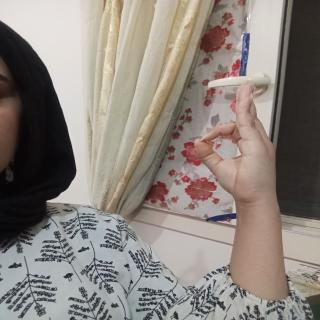Space: (187, 79, 284, 208)
